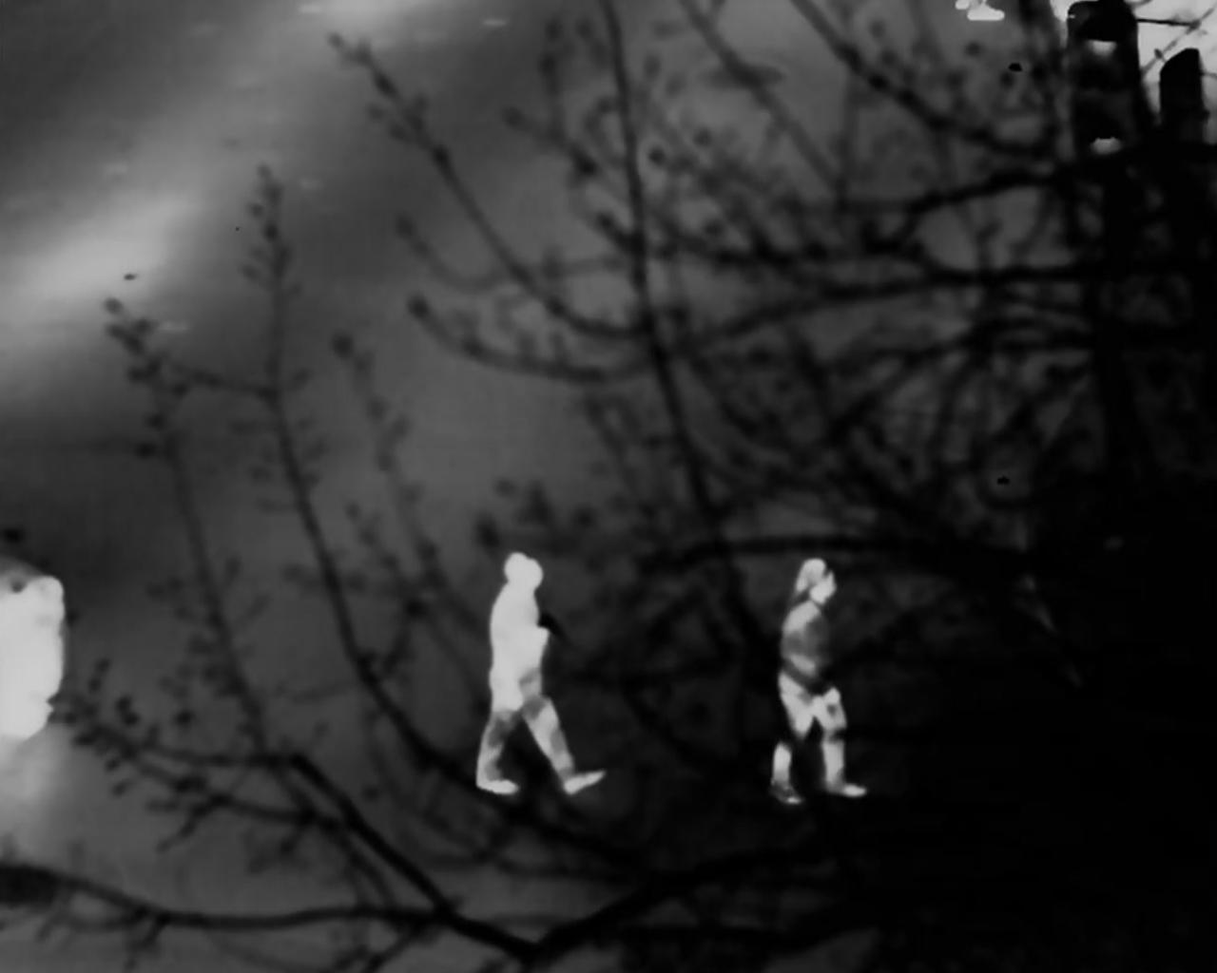person: (473, 552, 592, 811), (763, 554, 876, 815)
